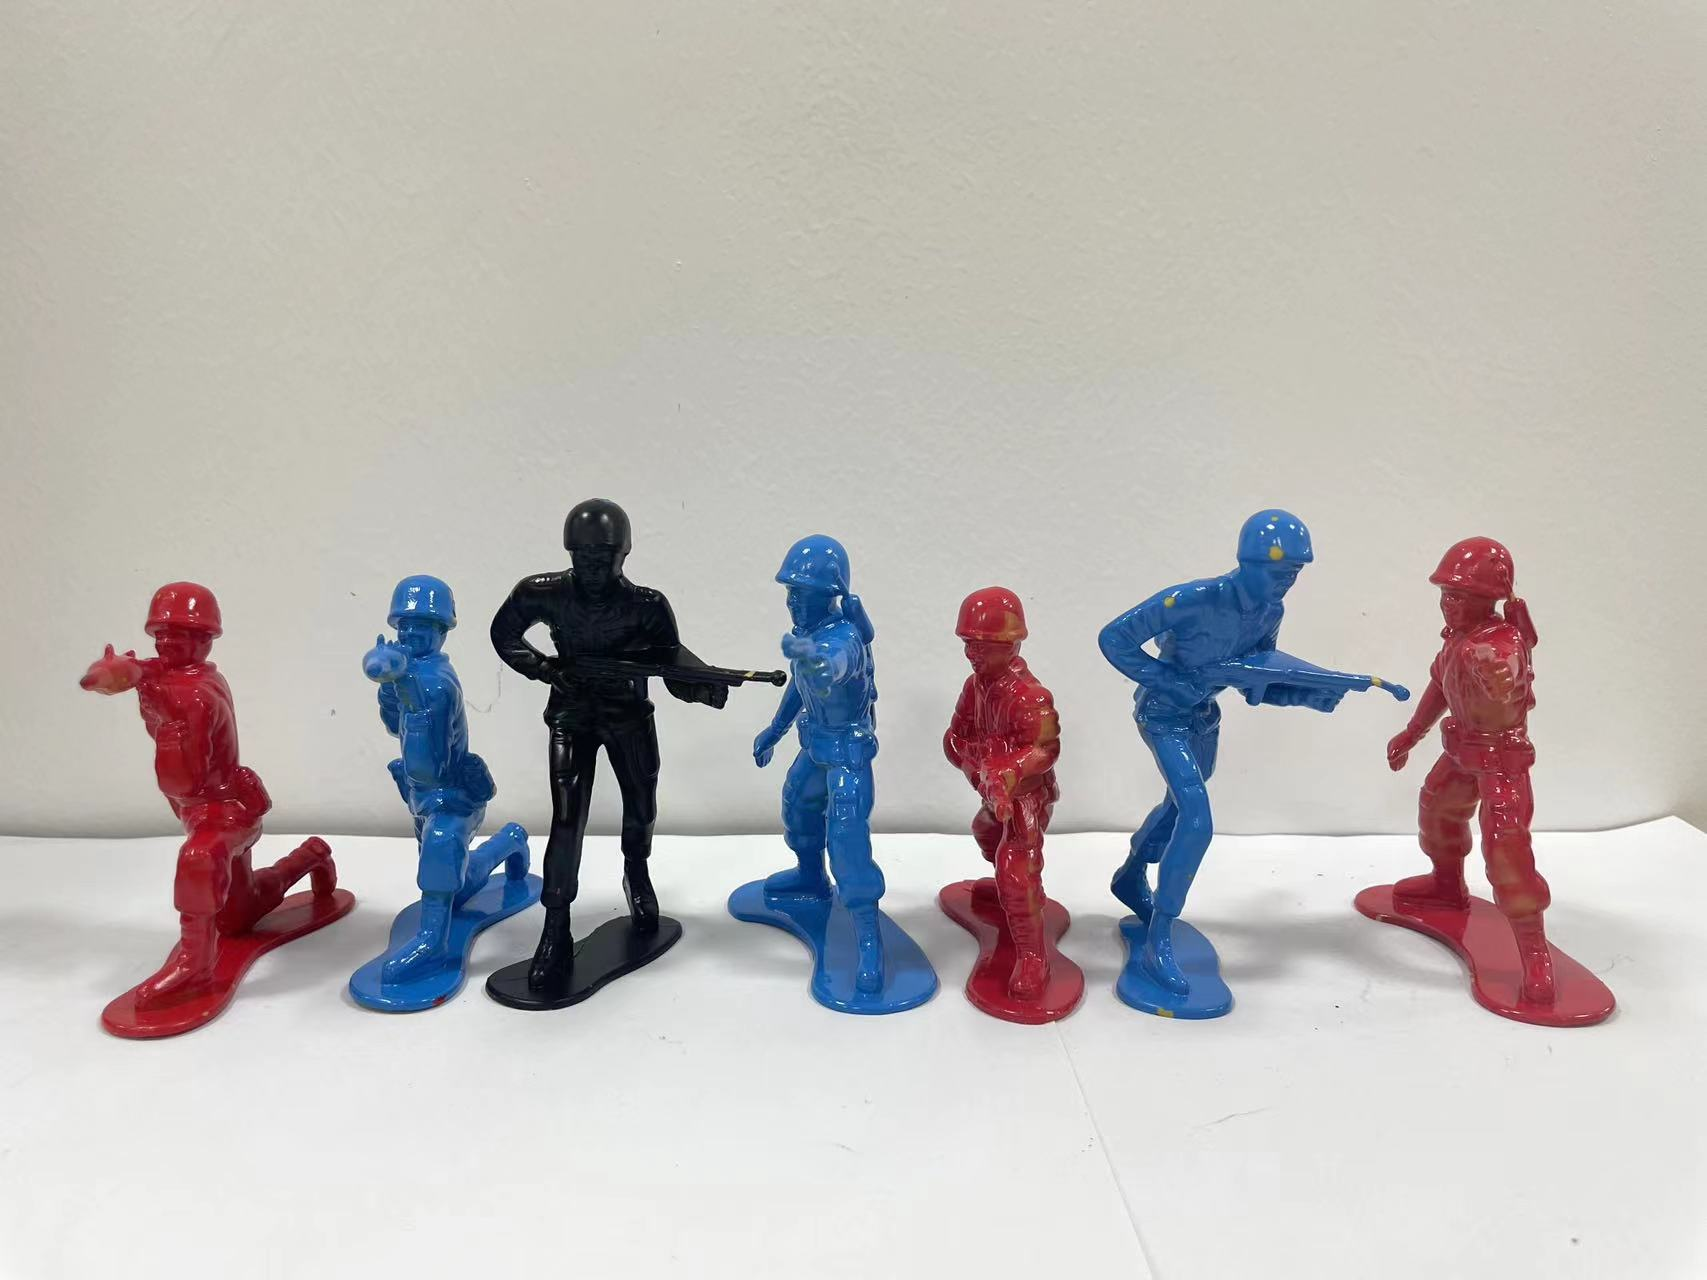black: (481, 454, 737, 1072)
blue: (1095, 463, 1366, 1098), (733, 524, 931, 1059), (337, 531, 508, 1050)
red: (1383, 510, 1638, 1092), (52, 555, 331, 1043), (925, 561, 1101, 1053)
